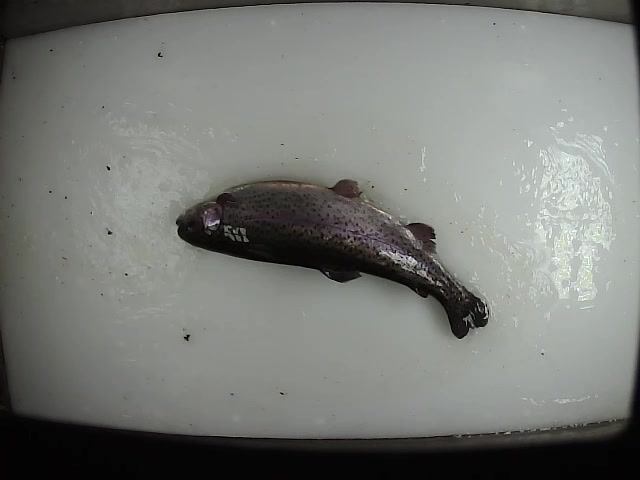Fish: (176, 178, 490, 341)
